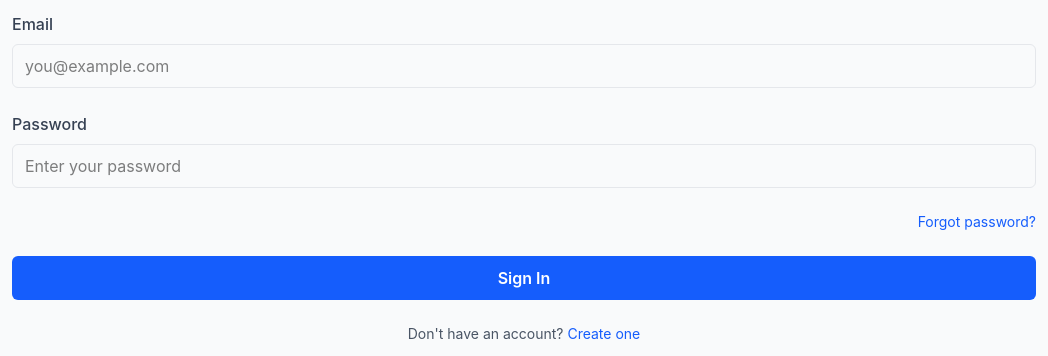
Scenario: LoginForm › shows disabled submit button during loading state
Type "test@test.com" into the field labelled "Email". click: point(524, 66)
box: 12,44 -> 1036,88
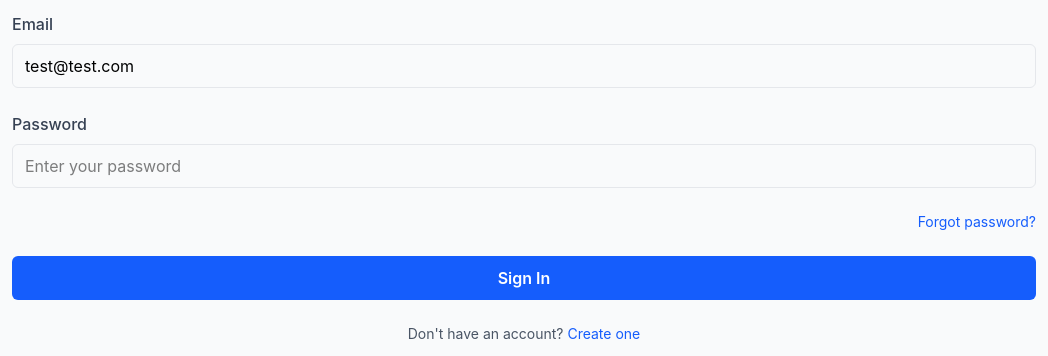
Type "password123" into the password field labelled "Password". click: point(524, 166)
box: 12,144 -> 1036,188
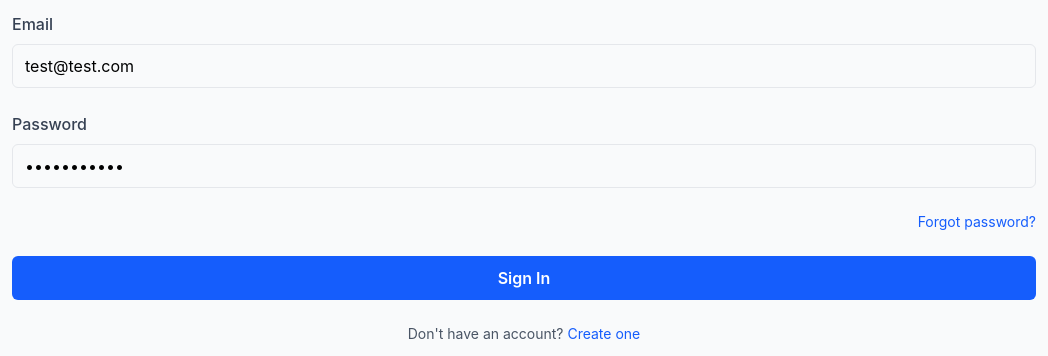
Click the button "Sign In". click: point(524, 278)
box: 12,256 -> 1036,300
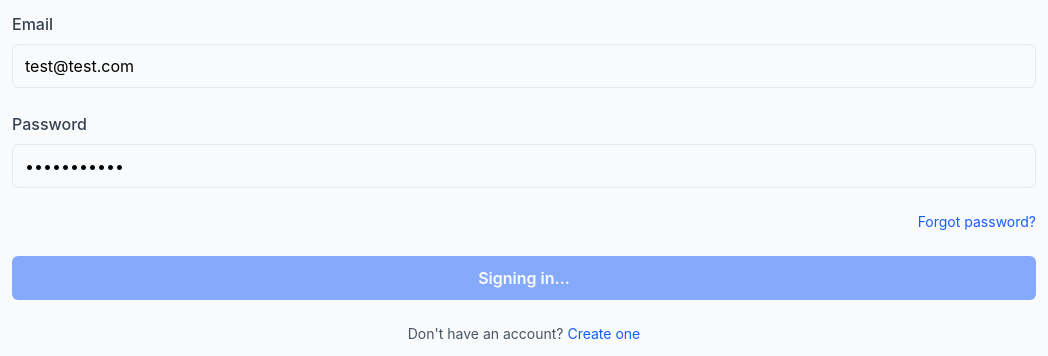
Expected: the button "Signing in..." is disabled, 12,256 -> 1036,300
